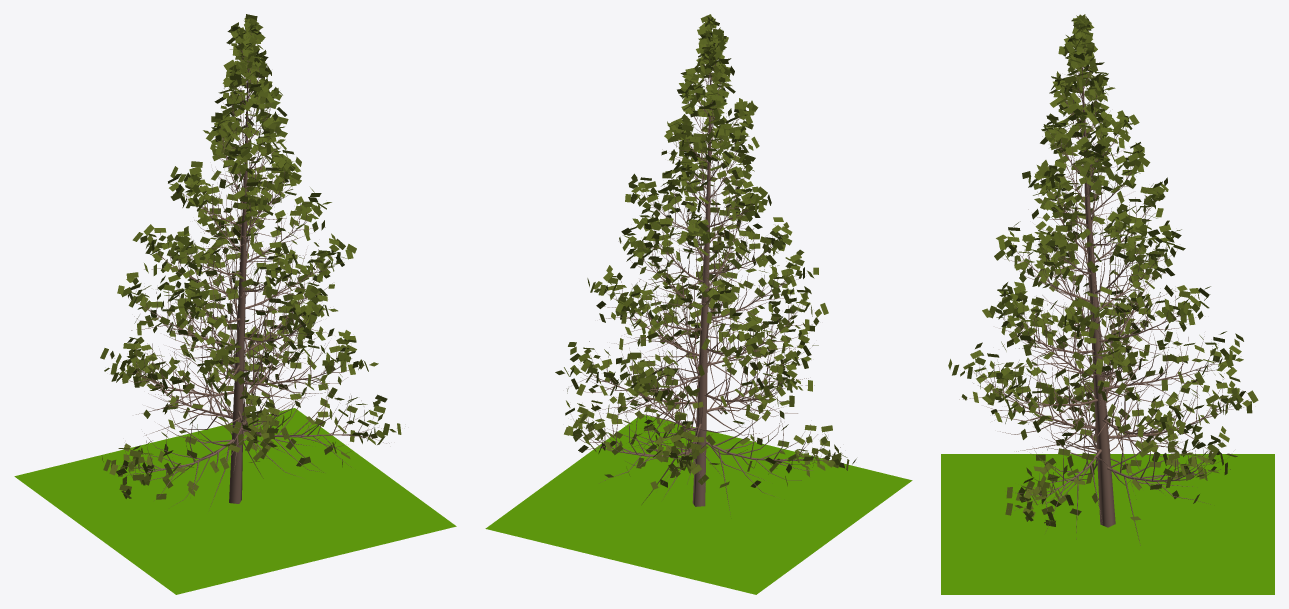
Rendered from arbre03.fbx.
3 views of the same model, side by side, from view 1: azimuth 30°, elevation 25°; view 2: azimuth 150°, elevation 25°; view 3: azimuth 270°, elevation 25° (orthographic). The views are drawn at different scales.
Visible parts, largest first — view 1: Plane, leaves, tree; view 2: Plane, leaves, tree; view 3: Plane, leaves, tree.
Boxes of the visible parts, left/top/right/bottom form: Plane: left=14, top=408, right=456, bottom=594; leaves: left=100, top=14, right=401, bottom=499; tree: left=111, top=33, right=397, bottom=506; Plane: left=485, top=414, right=912, bottom=594; leaves: left=555, top=14, right=856, bottom=489; tree: left=566, top=26, right=842, bottom=514; Plane: left=941, top=454, right=1274, bottom=594; leaves: left=948, top=14, right=1258, bottom=526; tree: left=959, top=29, right=1251, bottom=545.
Bounding box in the file's own units: 950 × 1622 × 945.
